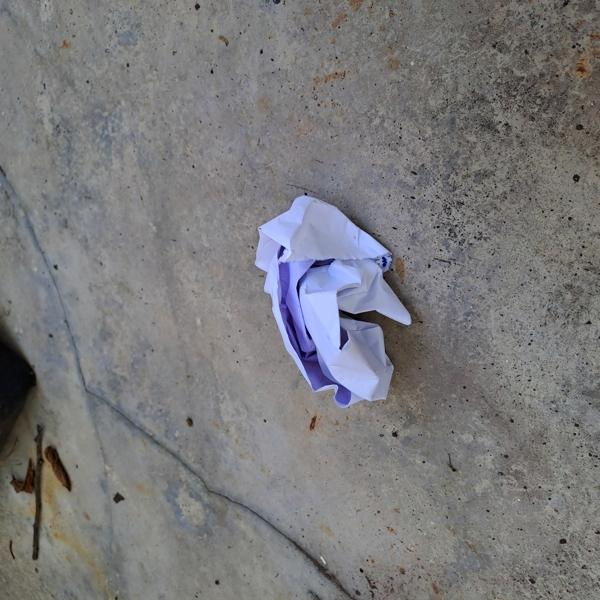Organik: (247, 187, 429, 424)
